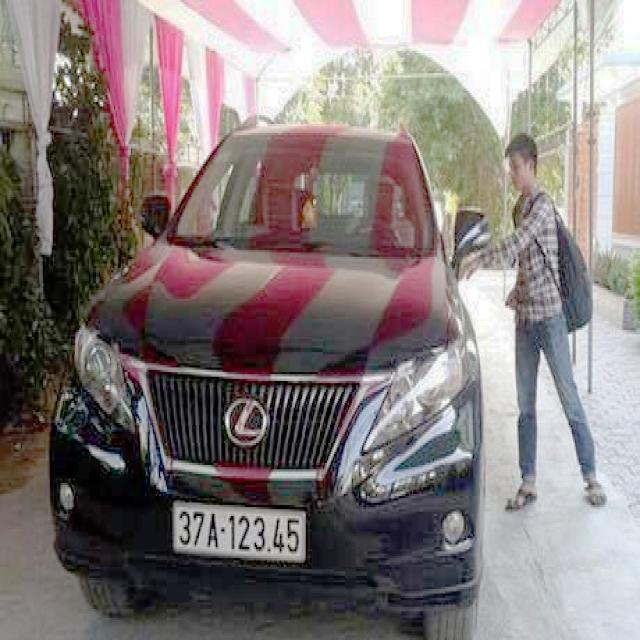license_plate: (175, 505, 305, 567)
